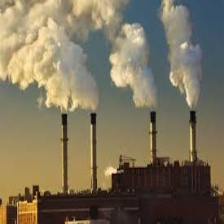smoke: (4, 1, 216, 114)
